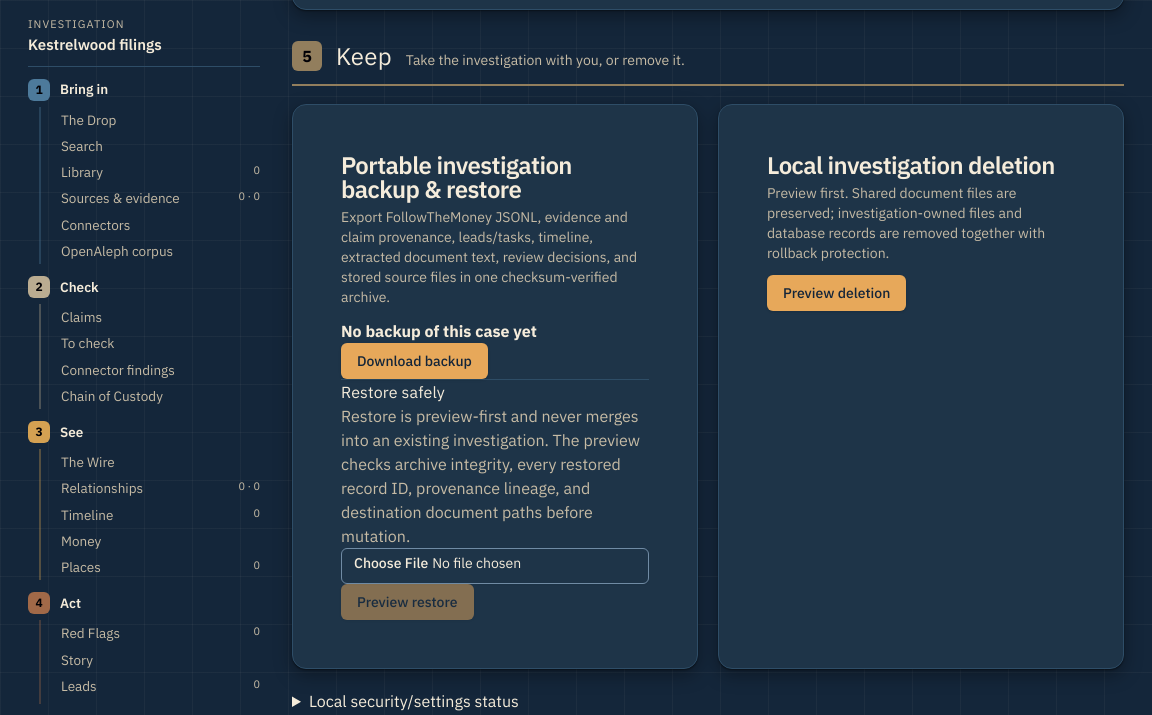
Test case: Home portable backup download › shows an error status when the export request fails
The width and height of the screenshot is (1152, 715).
(page scrolled)
Step 1. Click the button "Download backup" → [414, 361], box [341,343,488,379]
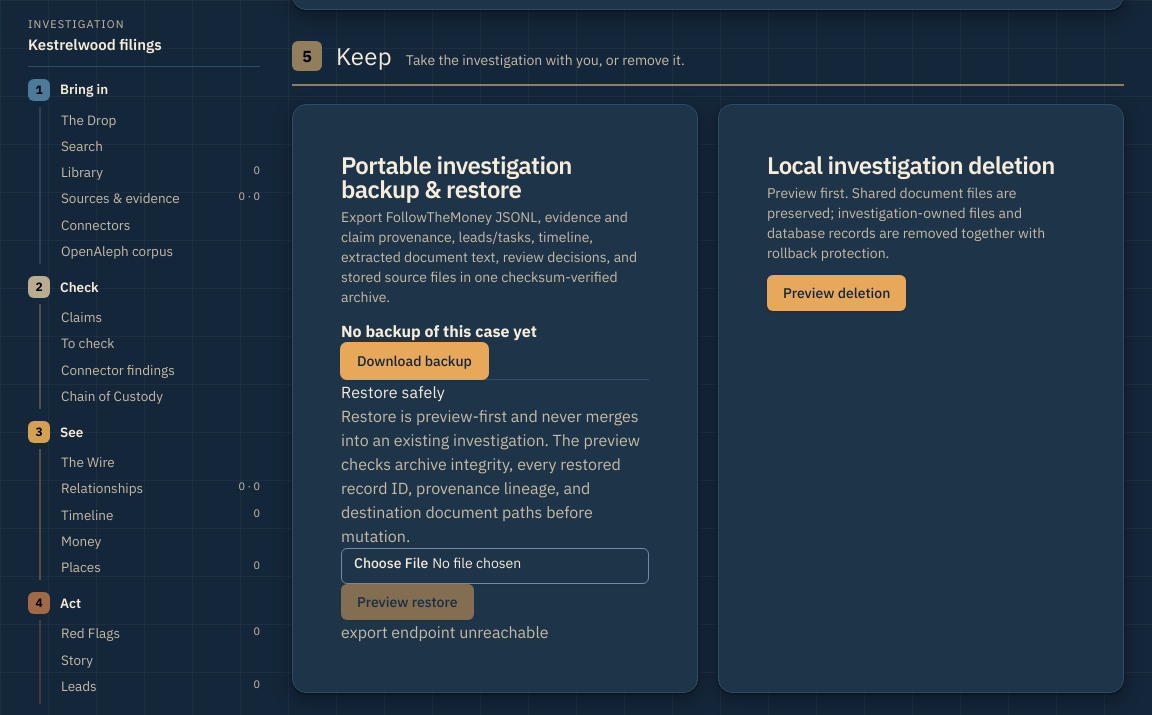
expect the text "export endpoint unreachable" is shown: met, box [341,622,548,642]
